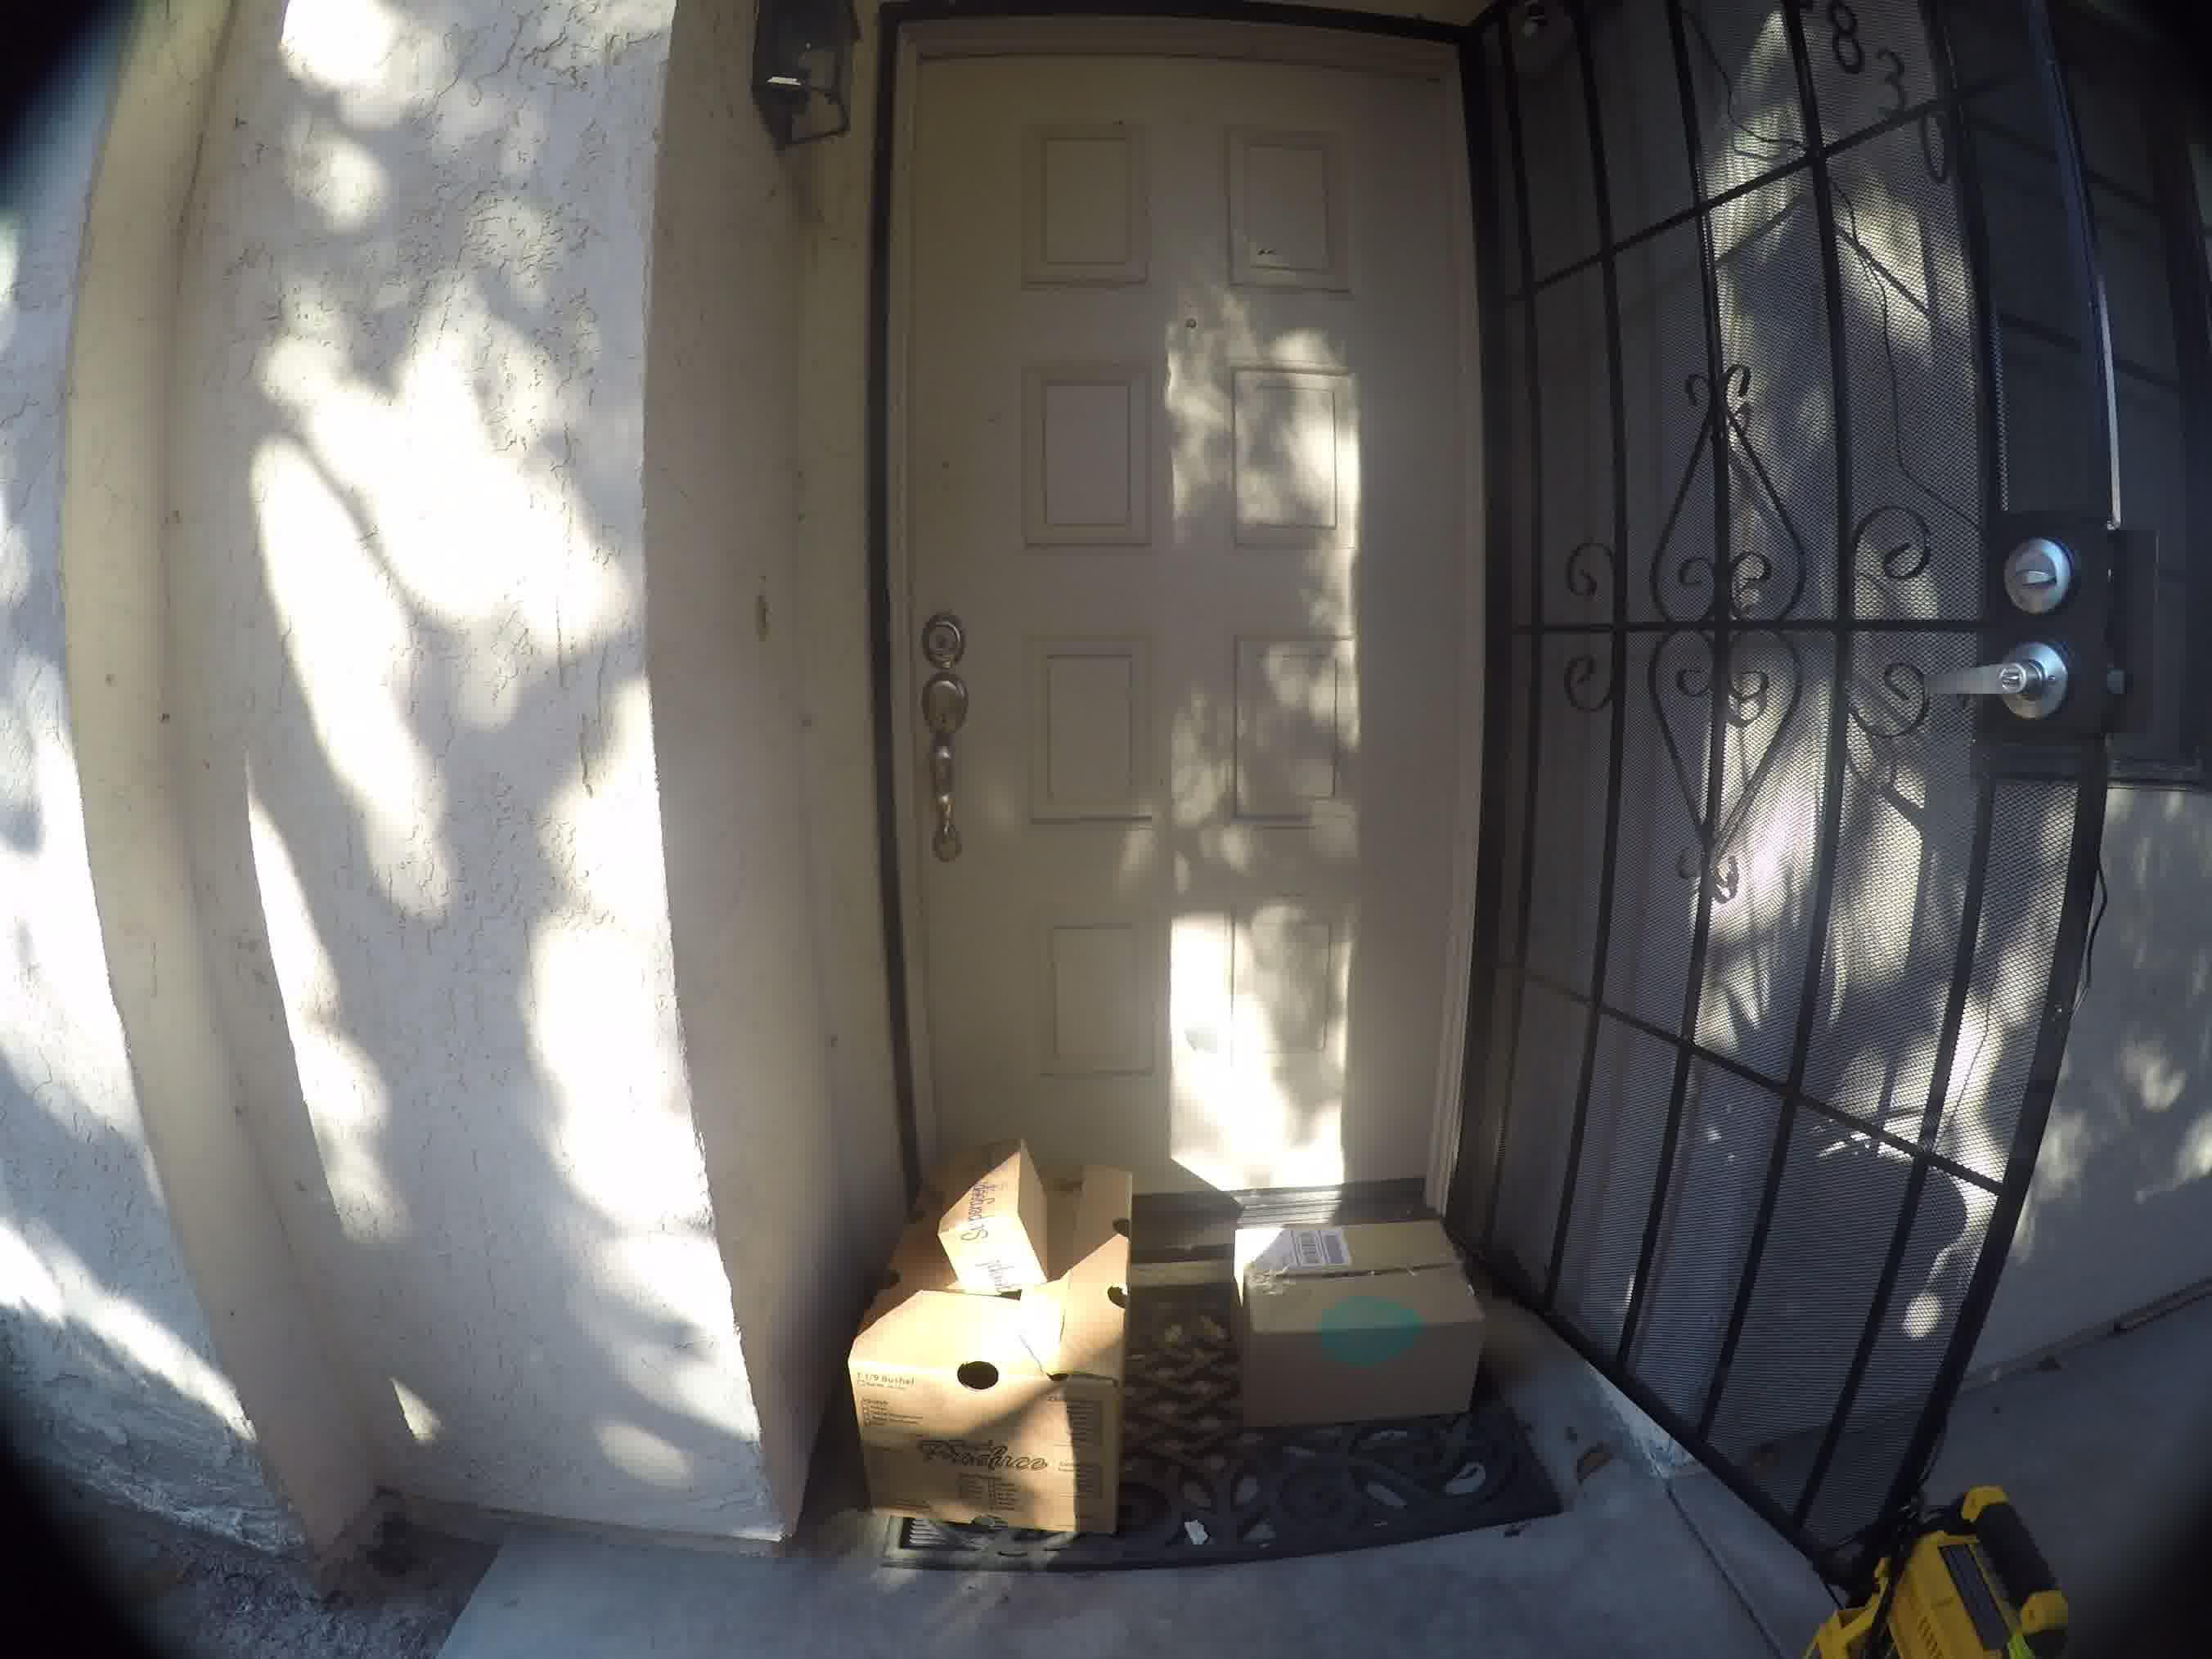box: (866, 1129, 1139, 1584), (1216, 1192, 1496, 1434)
